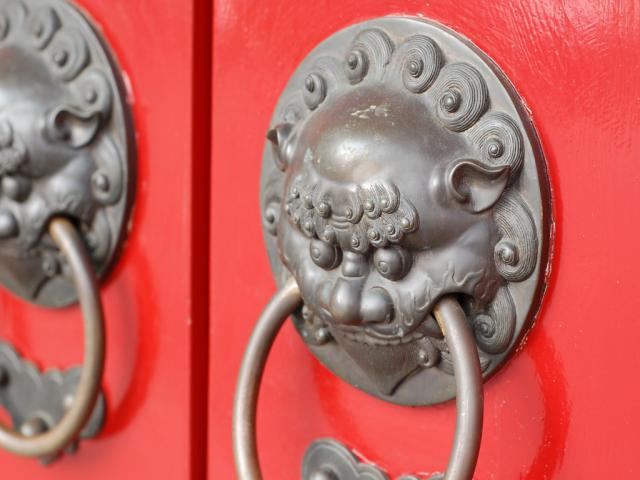Door-handle: (226, 12, 554, 480), (0, 0, 140, 466)
